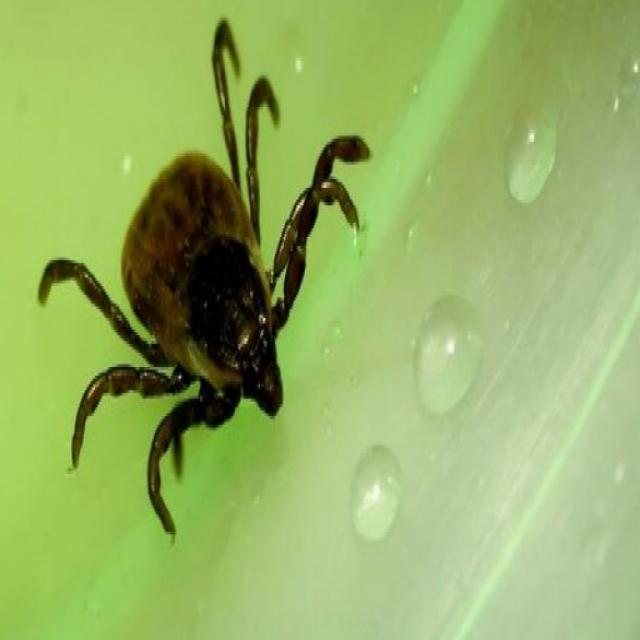Rhipicephalus Sanguineus-F: (38, 20, 373, 537)
